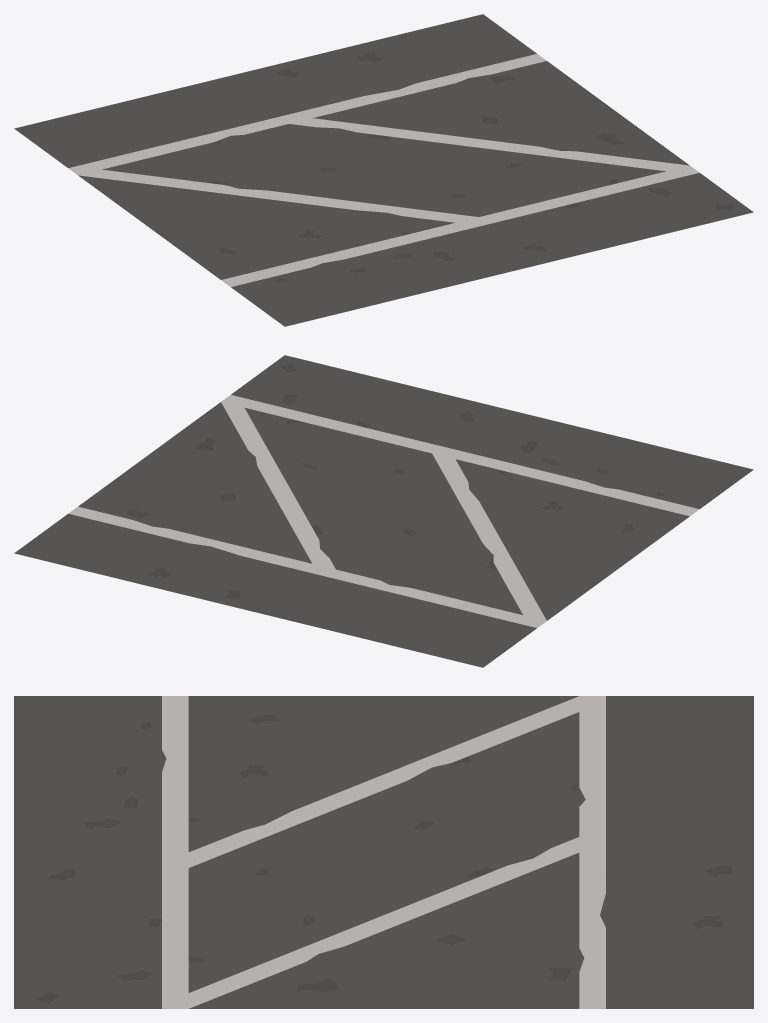
File: SM_Env_Ground_Lines_02.fbx
The picture shows the model from 3 angles, top to bottom: view 1: azimuth 30°, elevation 25°; view 2: azimuth 150°, elevation 25°; view 3: azimuth 270°, elevation 25°; orthographic projection. The views are drawn at different scales.
Parts seen in each view (by area): view 1: SM_Env_Ground_Lines_02; view 2: SM_Env_Ground_Lines_02; view 3: SM_Env_Ground_Lines_02.
Boxes of the visible parts, x1,y1,x2,y2 form: SM_Env_Ground_Lines_02: [14, 14, 753, 326]; SM_Env_Ground_Lines_02: [14, 355, 753, 667]; SM_Env_Ground_Lines_02: [14, 696, 753, 1008].
Size of the model in its own units: 1000 by 0 by 1000.
